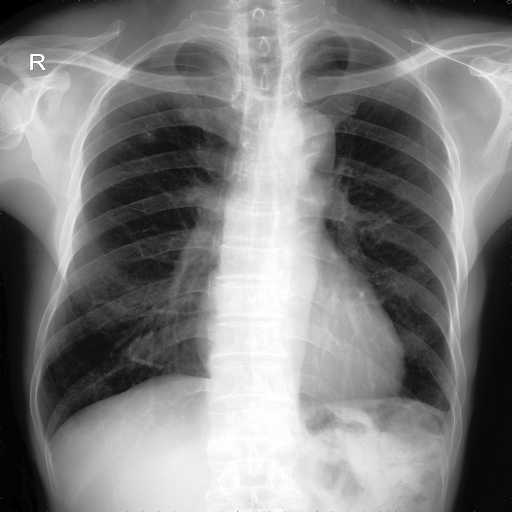Calcification: (432, 404, 456, 429)
Consolidation: (273, 112, 334, 172)
Pleural effusion: (432, 404, 456, 429)
